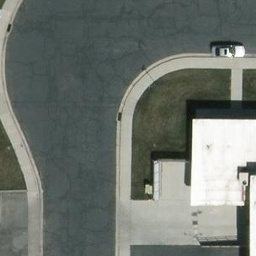car: (212, 40, 246, 60)
